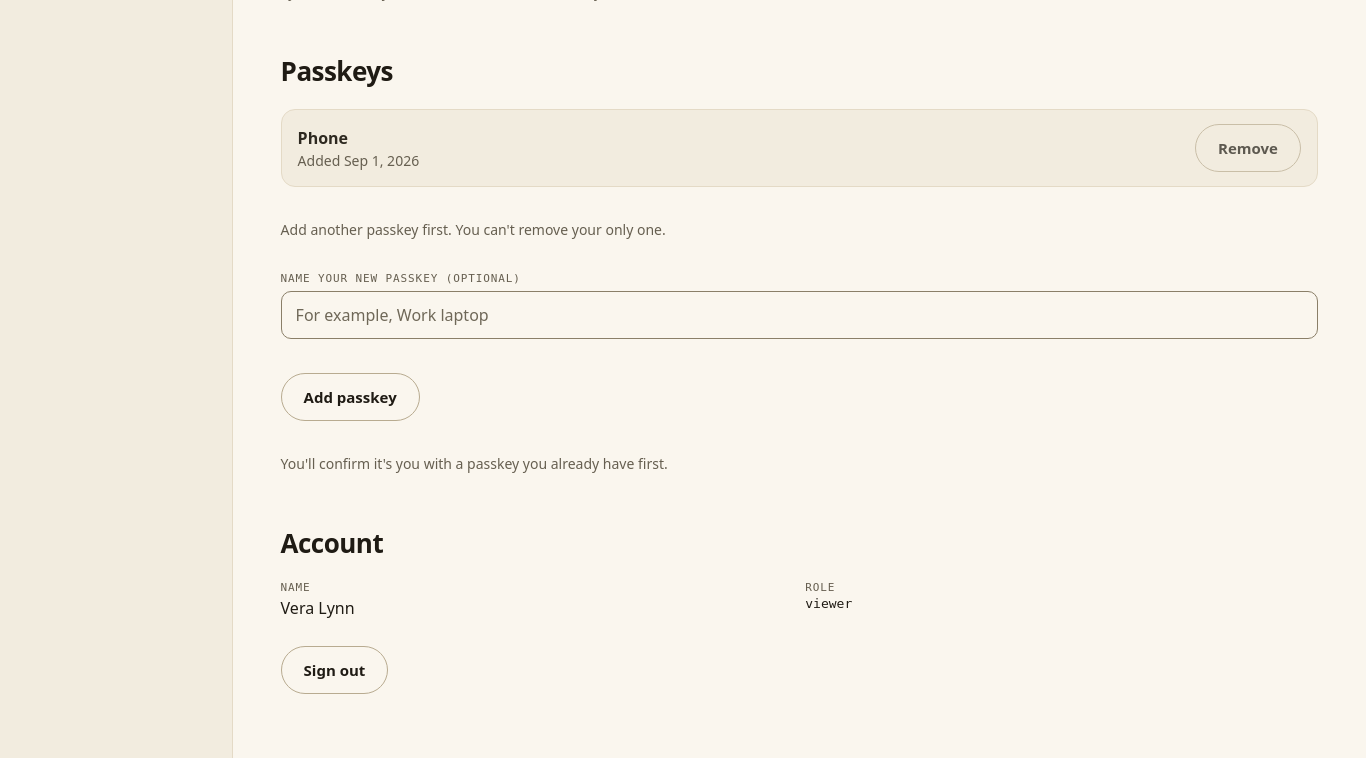
Test case: cancelling the confirm step stops before registration and saves nothing
This screenshot has width=1366, height=758.
(page scrolled)
Click the button "Add passkey". click: {"x": 350, "y": 397}
box: [281,373,420,421]
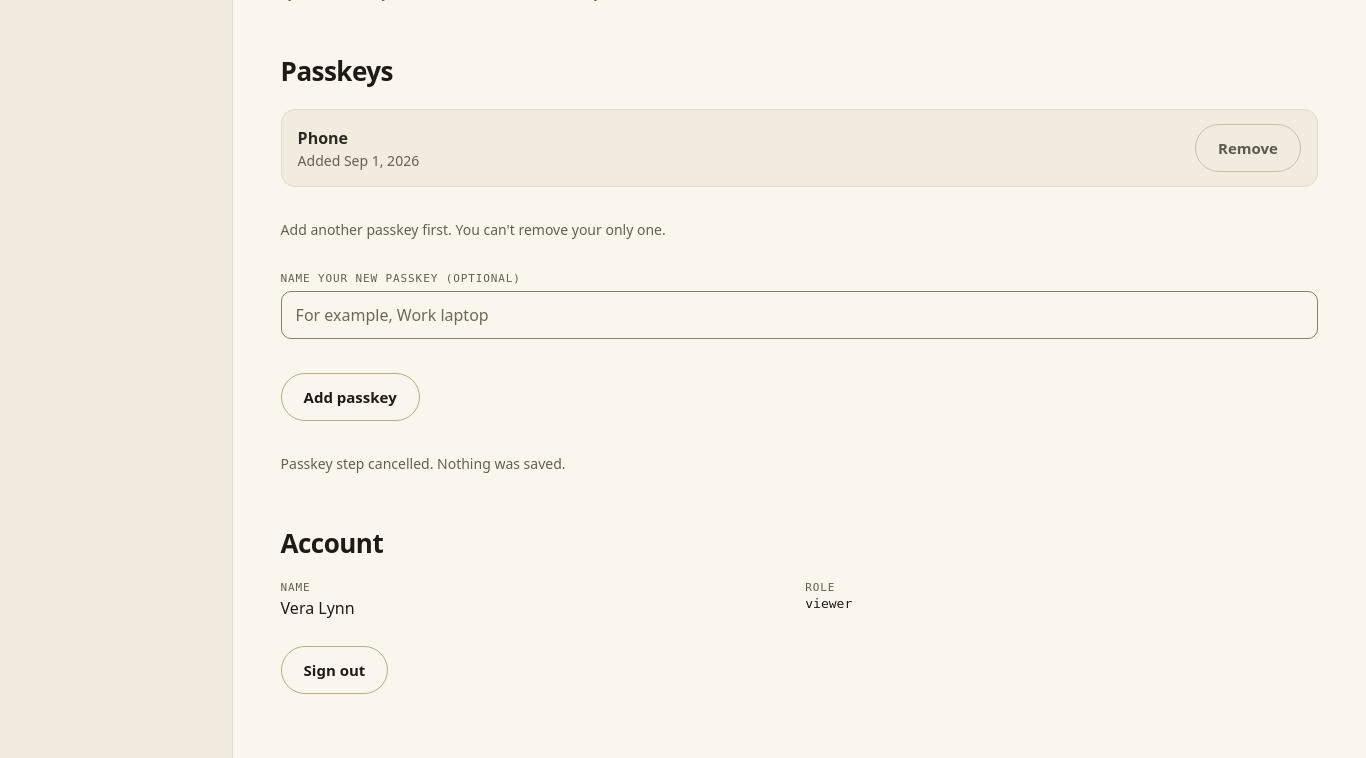
Result: the text "Passkey step cancelled. Nothing was saved." is shown at [281,454,566,473]
